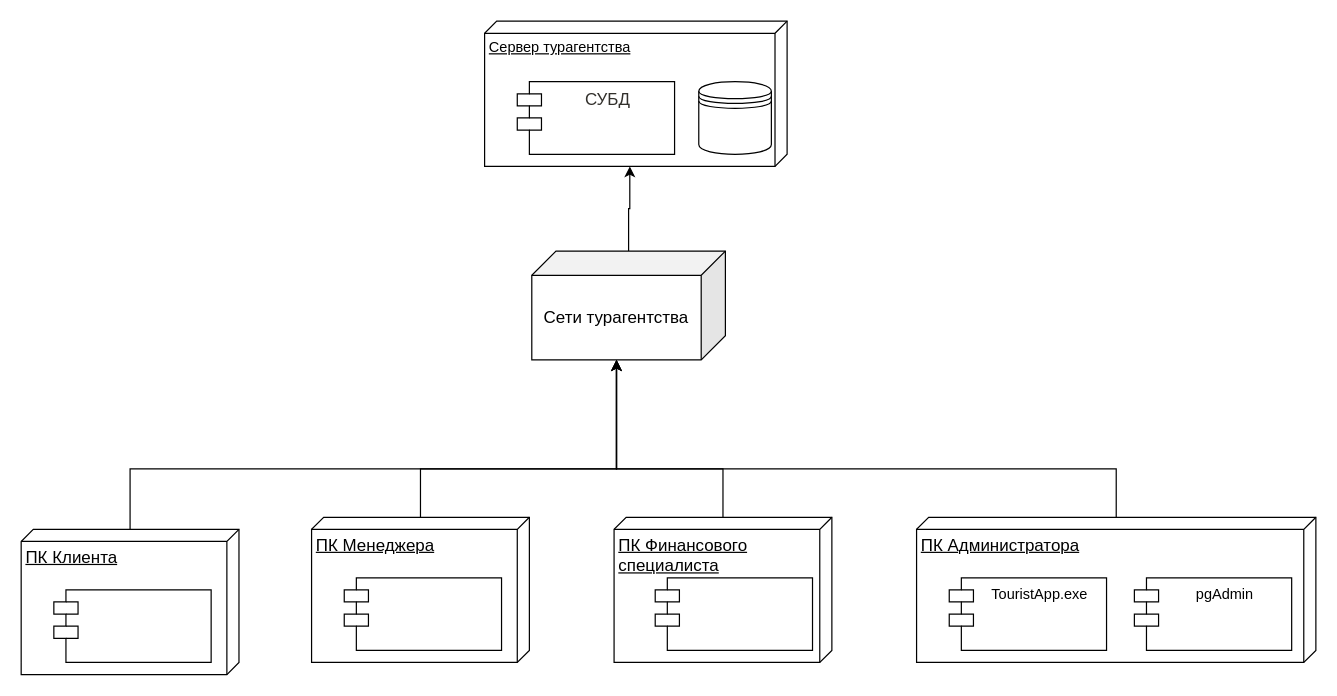
Some shapes in this 1337 by 696 pixel diagram are drawn without their labels. The centre of each missing label's shape, as x and y in pixels:
"TouristApp.exe (Client view)" goes at point (132, 625).
"TouristApp.exe (Finance view)" goes at point (733, 613).
"TouristApp.exe (Maneger view)" goes at point (422, 613).
"БД" goes at point (734, 117).
